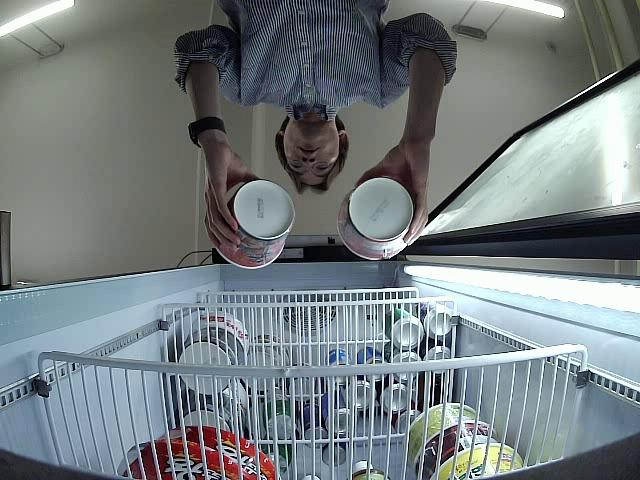00_hand: (355, 144, 433, 247), (203, 150, 261, 250)
01_shinRamen_L: (215, 181, 294, 269), (337, 178, 413, 263)
